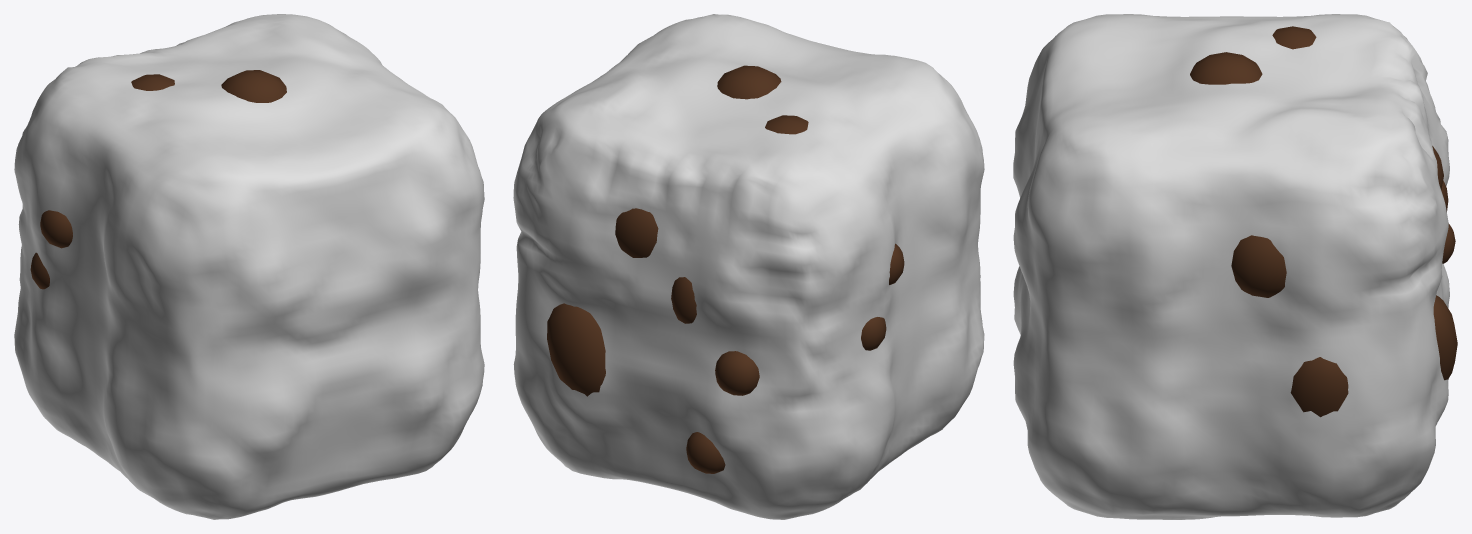
Rendered from CookieBlockModel.fbx.
3 renders of one model, left to right at view 1: azimuth 30°, elevation 25°; view 2: azimuth 150°, elevation 25°; view 3: azimuth 270°, elevation 25°, orthographic. The views are drawn at different scales.
Visible parts, largest first — view 1: CookieBlock, Cube.009, Cube.008, Cube.010; view 2: CookieBlock, Cube.001, Cube.002, Cube.009, Cube, Cube.004, Cube.003, Cube.010, Cube.007; view 3: CookieBlock, Cube.005, Cube.006, Cube.009, Cube.001, Cube.010.
Boxes of the visible parts, <box> form: CookieBlock: <box>14,14,484,519</box>; Cube.009: <box>221,70,286,102</box>; Cube.008: <box>40,210,72,248</box>; Cube.010: <box>131,74,174,90</box>; CookieBlock: <box>513,14,984,519</box>; Cube.001: <box>547,303,605,396</box>; Cube.002: <box>615,208,658,257</box>; Cube.009: <box>717,65,781,99</box>; Cube: <box>715,351,759,395</box>; Cube.004: <box>686,432,725,473</box>; Cube.003: <box>671,277,696,323</box>; Cube.010: <box>765,115,808,134</box>; Cube.007: <box>861,317,886,350</box>; CookieBlock: <box>1013,14,1449,519</box>; Cube.005: <box>1231,235,1286,297</box>; Cube.006: <box>1290,357,1348,417</box>; Cube.009: <box>1190,52,1262,84</box>; Cube.001: <box>1433,295,1457,380</box>; Cube.010: <box>1272,26,1316,49</box>.
Size of the model in its own units: 226 by 231 by 225.
